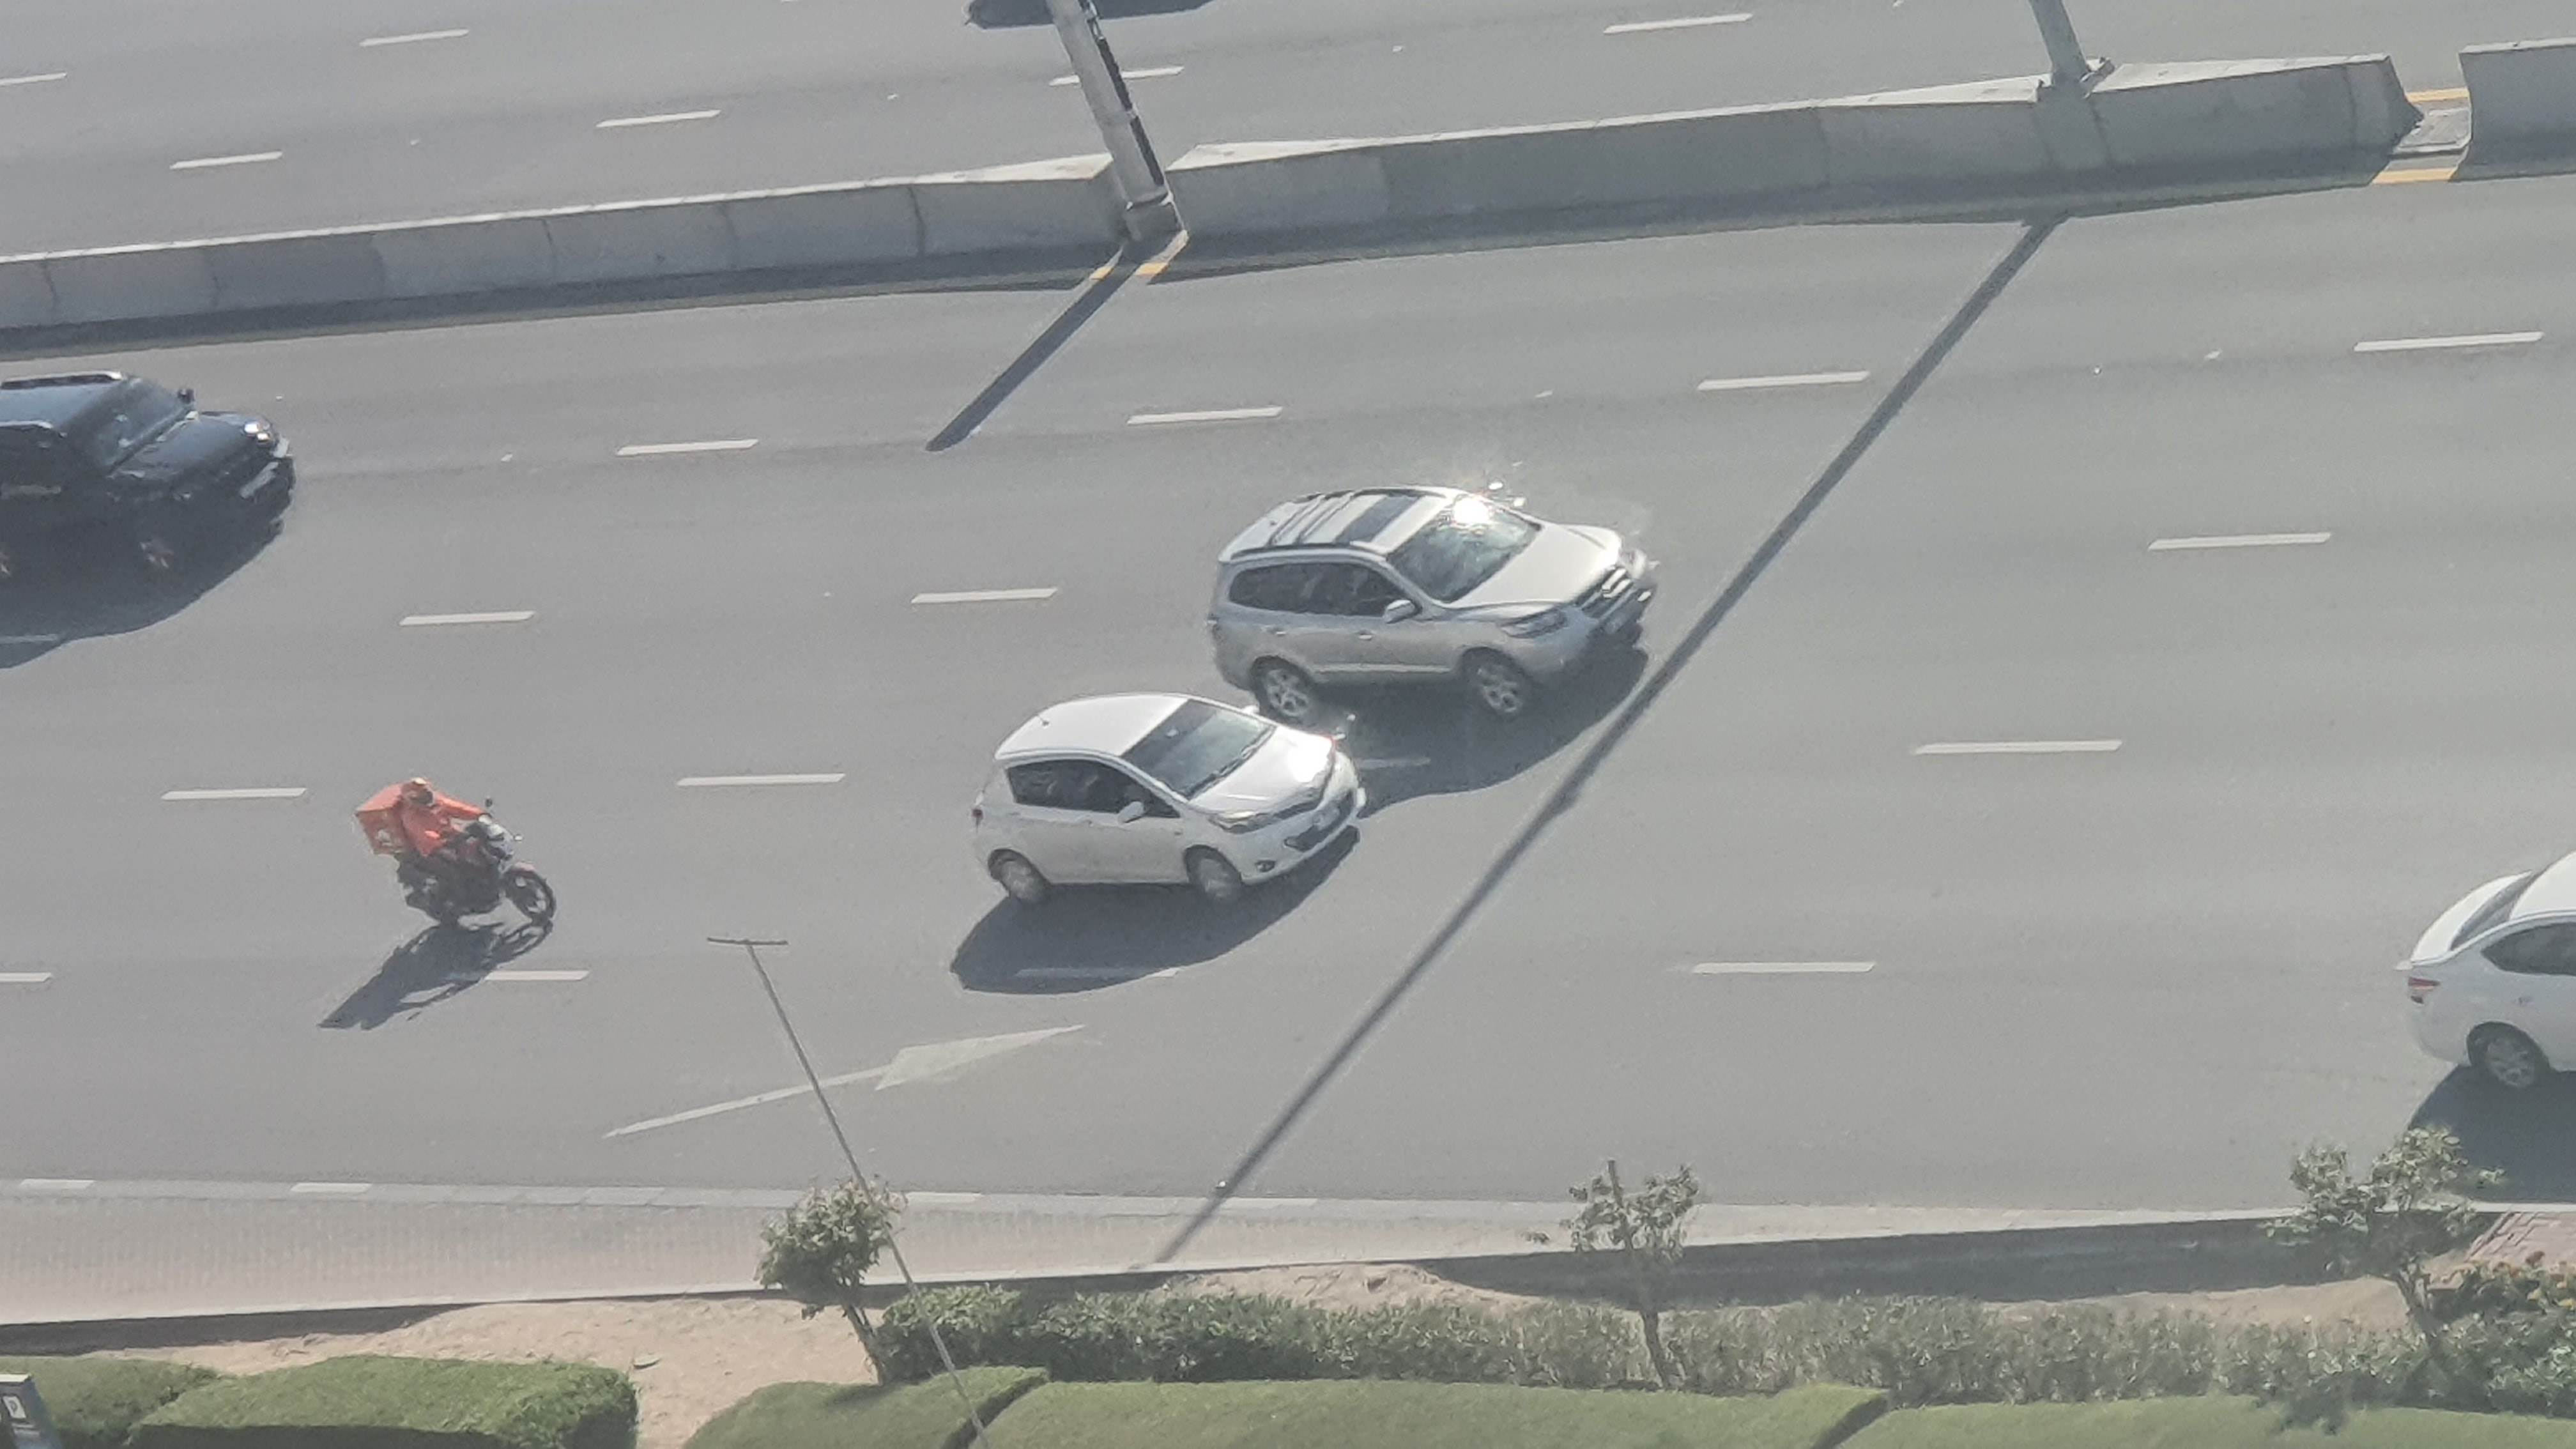NotSunroof: (961, 694, 1361, 916), (4, 372, 303, 584)
Sunroof: (1198, 488, 1654, 715)
